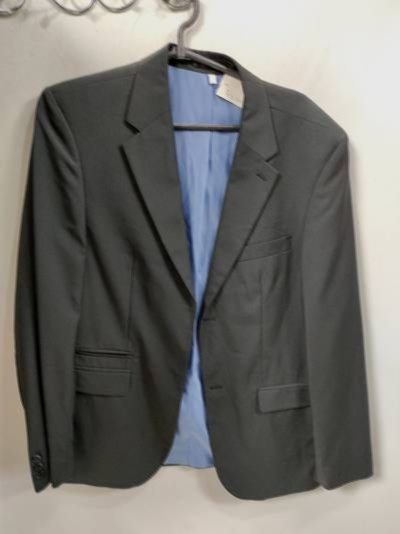Blazer: (0, 46, 380, 504)
